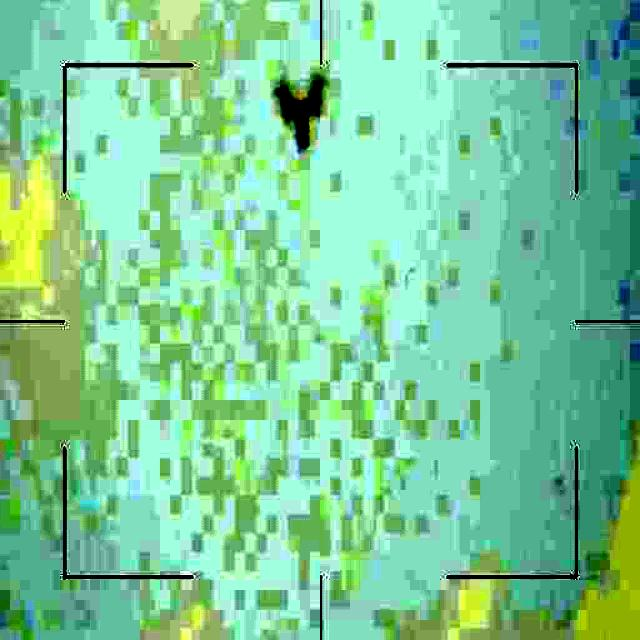bird: (276, 71, 326, 146)
